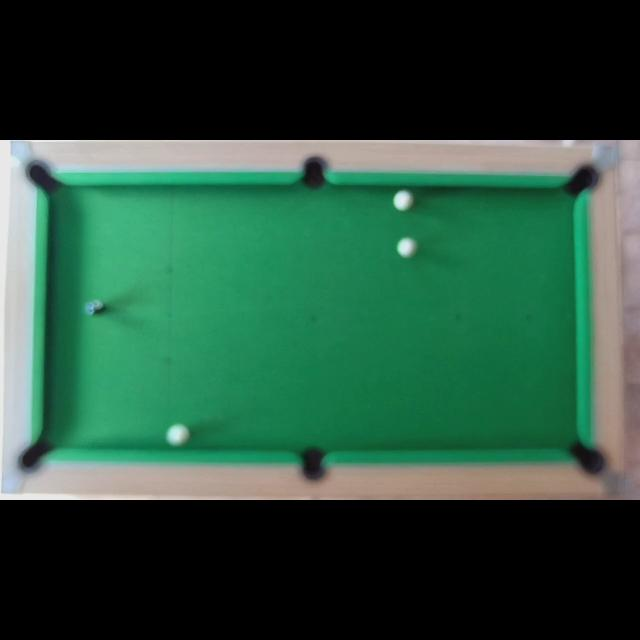Ball: (398, 239, 416, 257), (396, 192, 412, 208), (168, 428, 186, 442), (87, 300, 103, 314)
